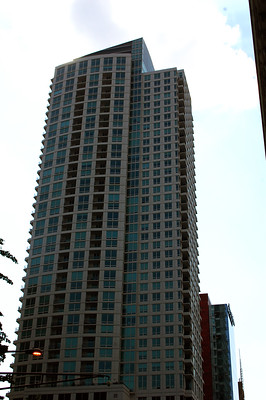medium: (7, 34, 209, 400)
